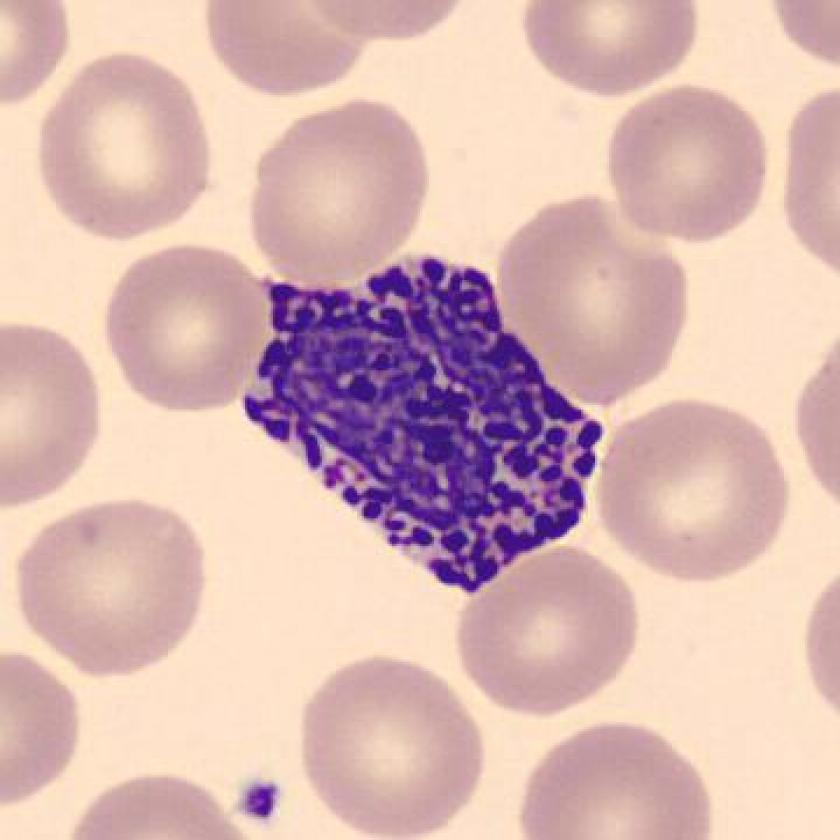basophil: (242, 249, 613, 591)
